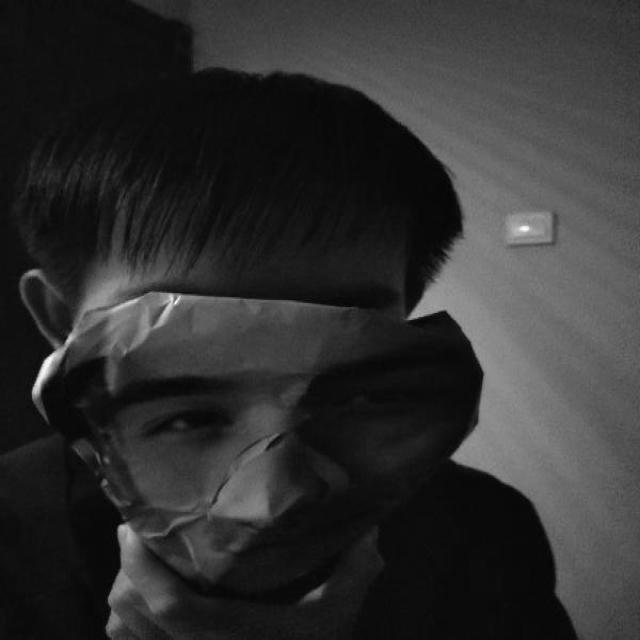fake: (33, 296, 480, 613)
